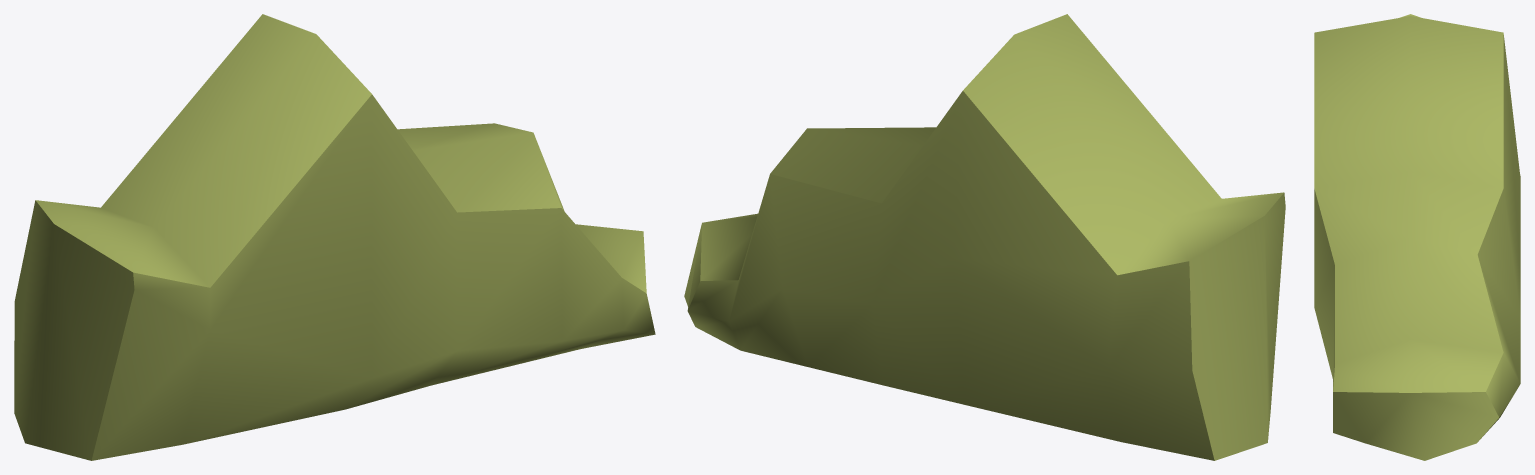
Rendered from NewGrass1.fbx.
3 views of the same model, side by side, from view 1: azimuth 30°, elevation 25°; view 2: azimuth 150°, elevation 25°; view 3: azimuth 270°, elevation 25° (orthographic). The views are drawn at different scales.
Visible parts, largest first — view 1: pCube15; view 2: pCube15; view 3: pCube15.
Boxes of the visible parts, x1,y1,x2,y2 form: pCube15: (14,14,655,460); pCube15: (684,14,1285,460); pCube15: (1314,14,1520,460).
Size of the model in its own units: 2.19 by 1.2 by 0.7342.
